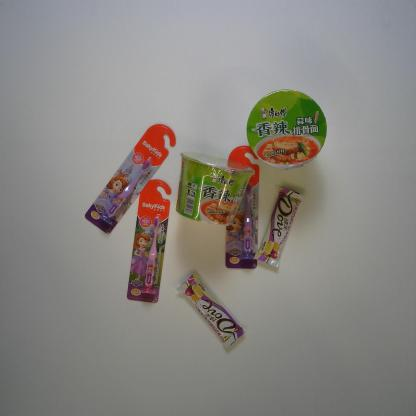Chocolate: (176, 272, 246, 349), (254, 187, 305, 269)
Instant Noodles: (246, 89, 327, 171), (175, 150, 256, 226)
Personal Hygiene: (84, 124, 176, 235), (126, 179, 172, 304), (224, 145, 260, 270)
